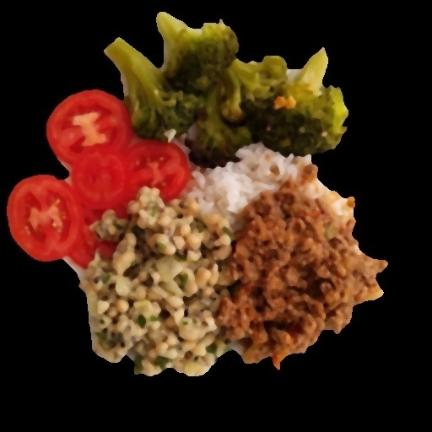broccoli: (105, 12, 348, 167)
meat: (217, 165, 386, 367)
rice: (184, 144, 311, 229)
tomato: (7, 90, 189, 268)
